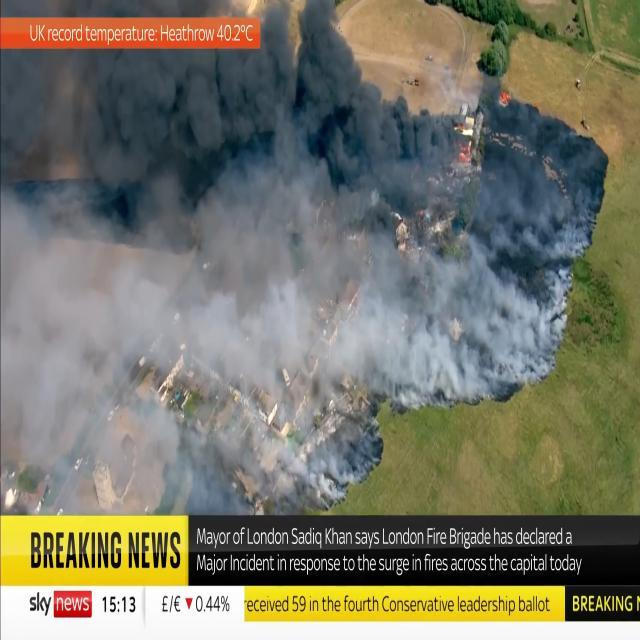Fire: (454, 136, 471, 164), (496, 88, 514, 106)
Smoke: (0, 227, 555, 525), (87, 0, 456, 231), (448, 109, 609, 334)
